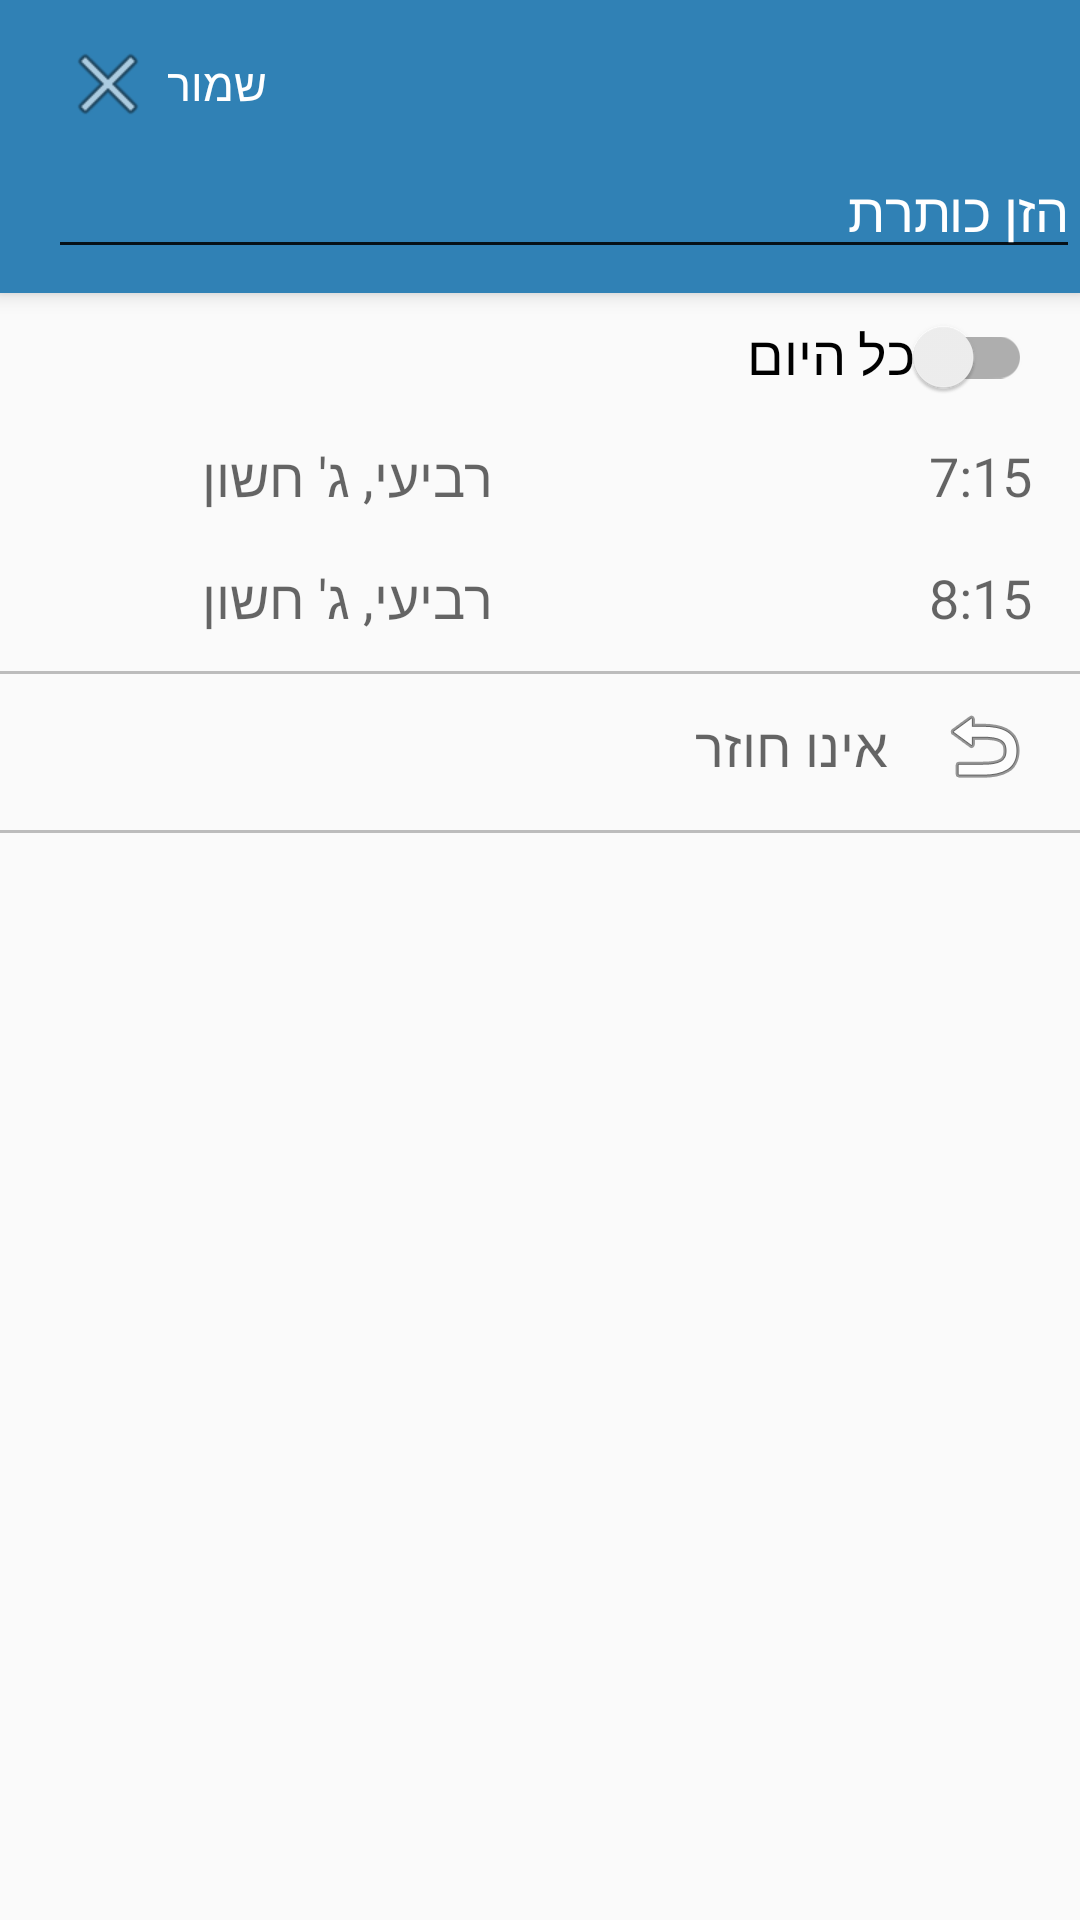

Icons on this 1080px×1920px Android screen, each with its box as (x1, y1, x2, y2):
close clear cancel: (78, 54, 138, 114)
revert: (951, 715, 1020, 778)
